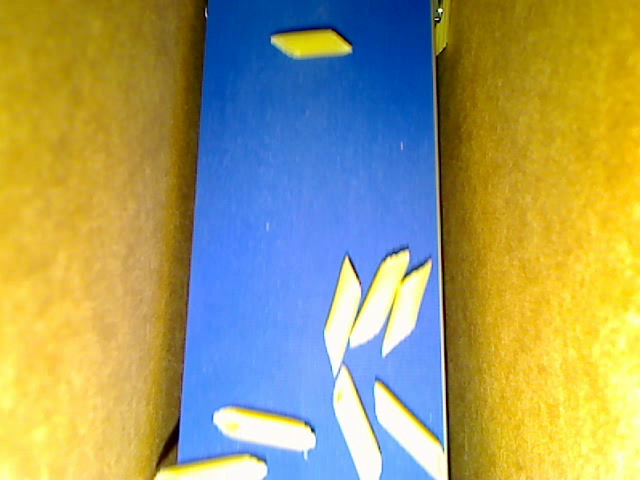penne: (372, 377, 447, 477), (330, 365, 387, 476), (350, 245, 409, 347), (380, 255, 433, 356), (321, 255, 362, 376), (213, 405, 315, 452), (154, 449, 274, 479), (268, 27, 354, 57)
